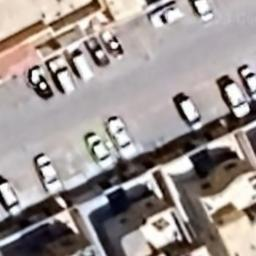SUV: (222, 82, 250, 118), (147, 5, 187, 29)
pickup: (28, 68, 54, 100), (85, 36, 110, 68), (102, 33, 126, 58)
sedan: (109, 116, 137, 158), (86, 132, 116, 171), (37, 156, 62, 192), (2, 179, 24, 216), (239, 65, 256, 101)
van: (50, 58, 79, 94), (180, 94, 204, 134), (68, 49, 95, 84), (192, 0, 214, 23)
